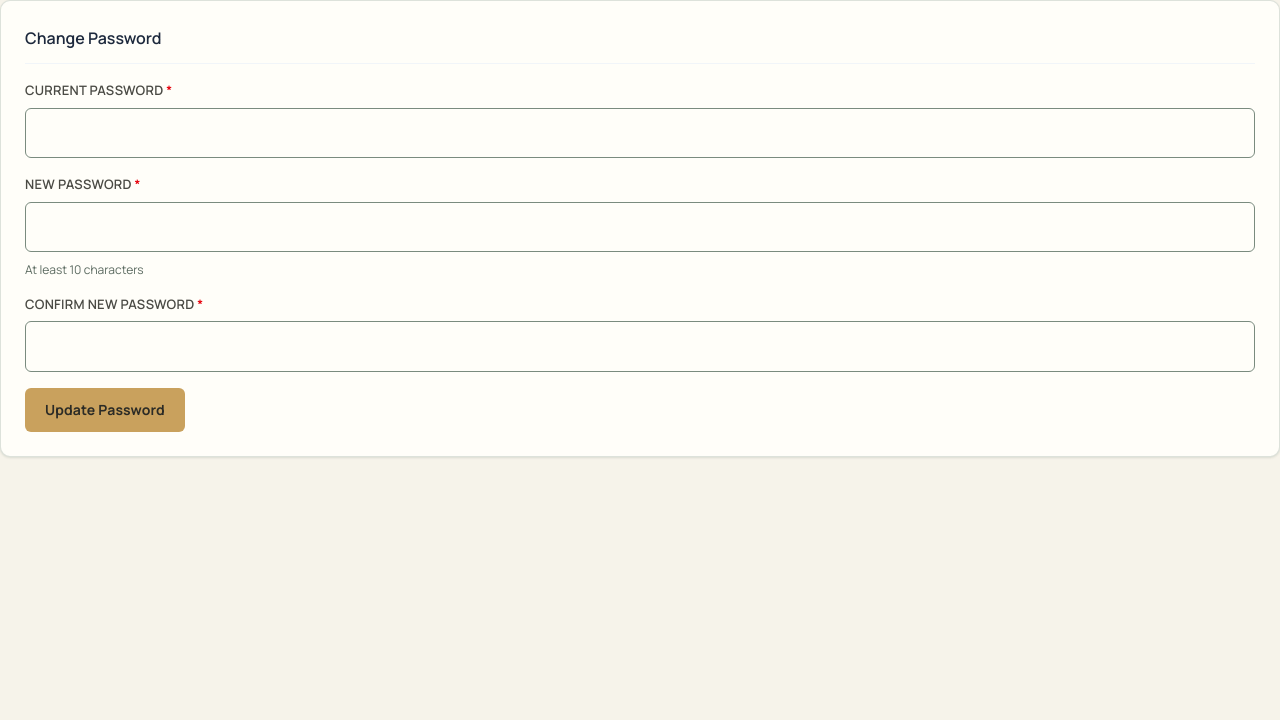
Test: PasswordSection › reports a network failure in plain words
Type "oldpassword1" into the password field labelled "Current Password *" at (640, 133), box [25, 108, 1255, 158]
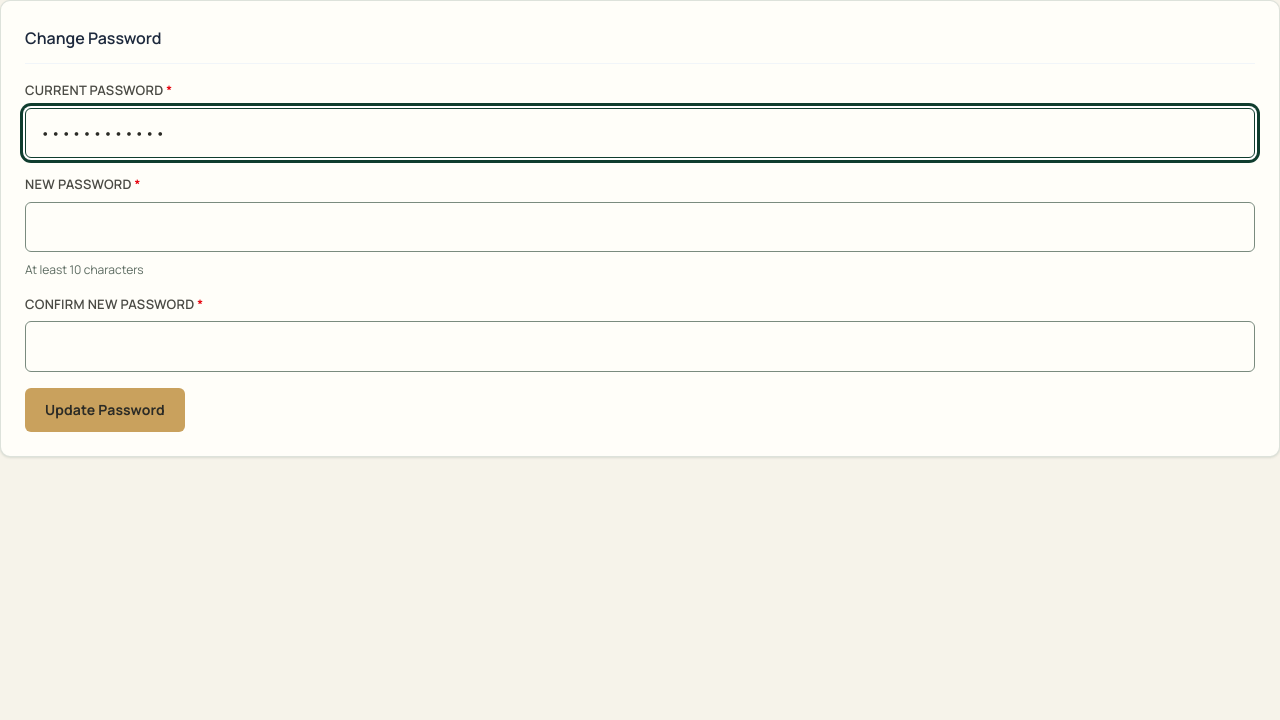
Type "brand-new-password" into the password field labelled "New Password *" at (640, 227), box [25, 202, 1255, 252]
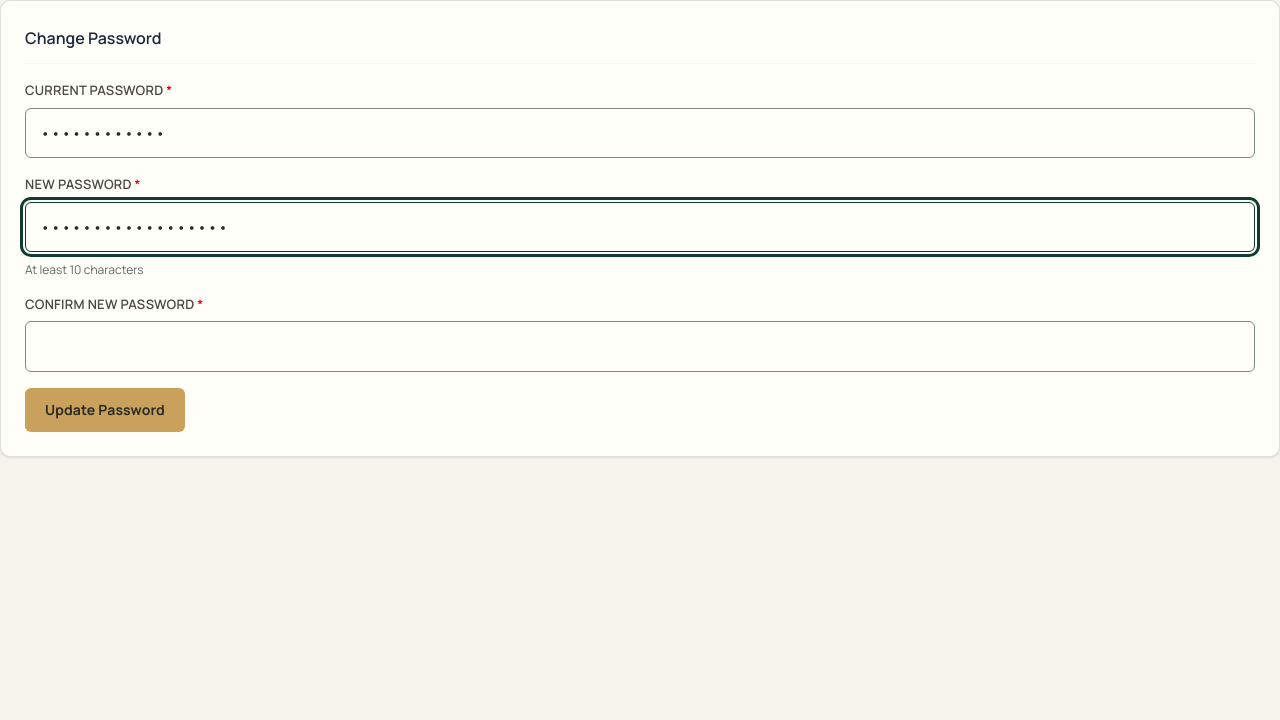
Type "brand-new-password" into the password field labelled "Confirm New Password *" at (640, 347), box [25, 322, 1255, 372]
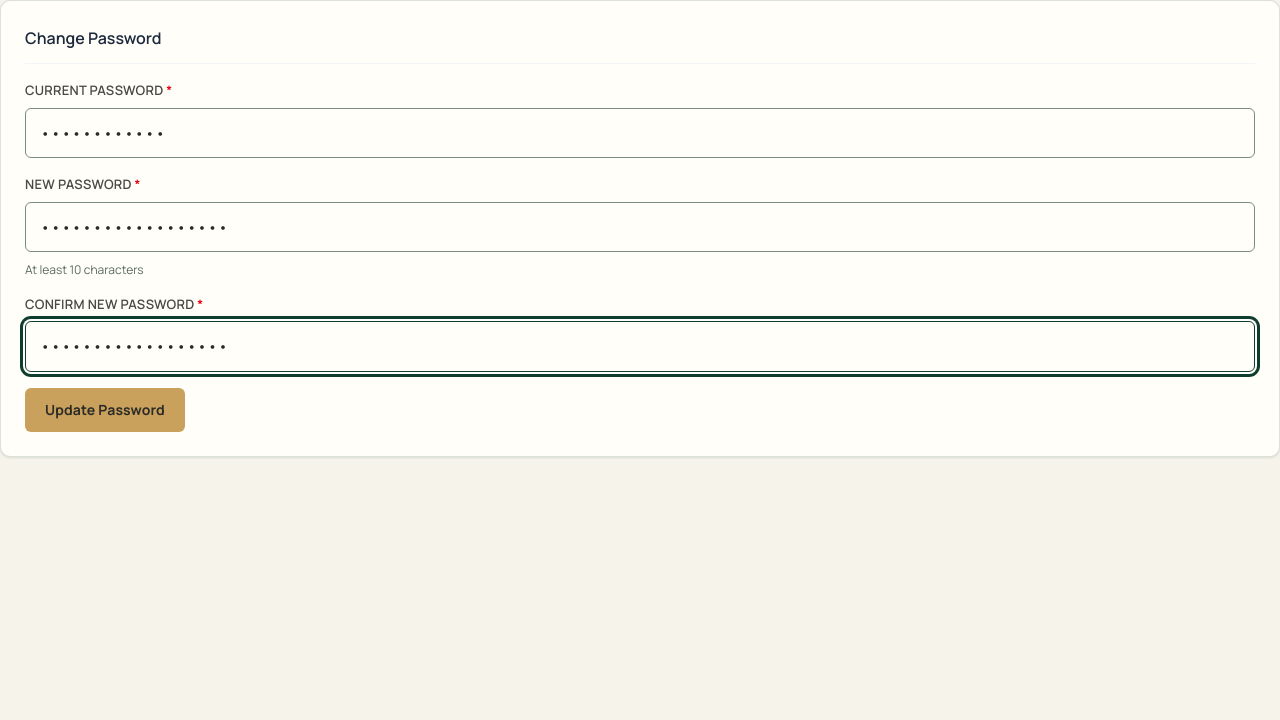
Click the button "Update Password" at (105, 410), box [25, 388, 185, 432]
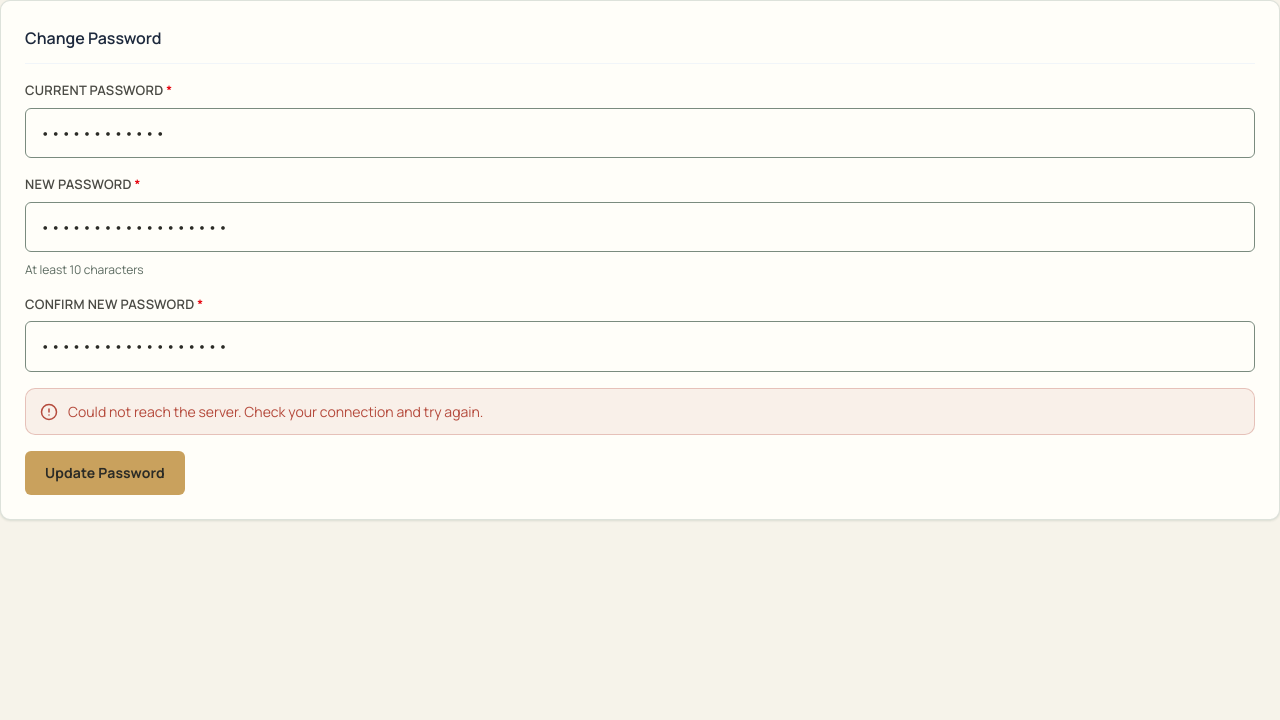
Now the message shows "Could not reach the server", box [68, 402, 483, 421]
